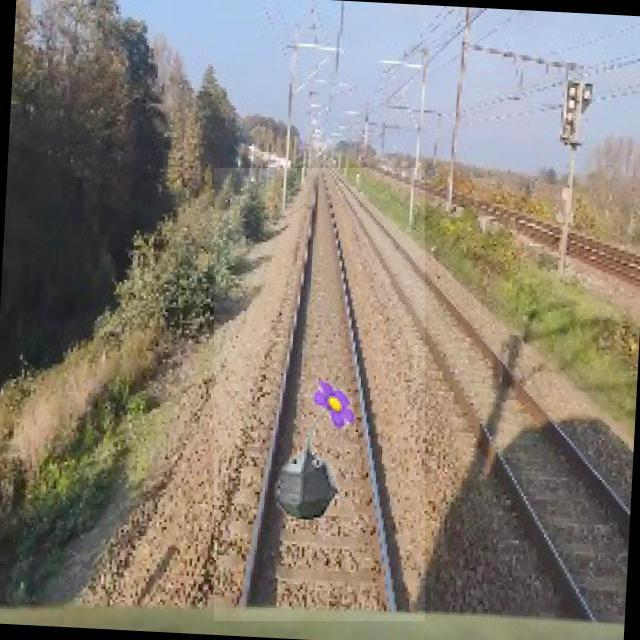rail: (216, 169, 426, 622)
